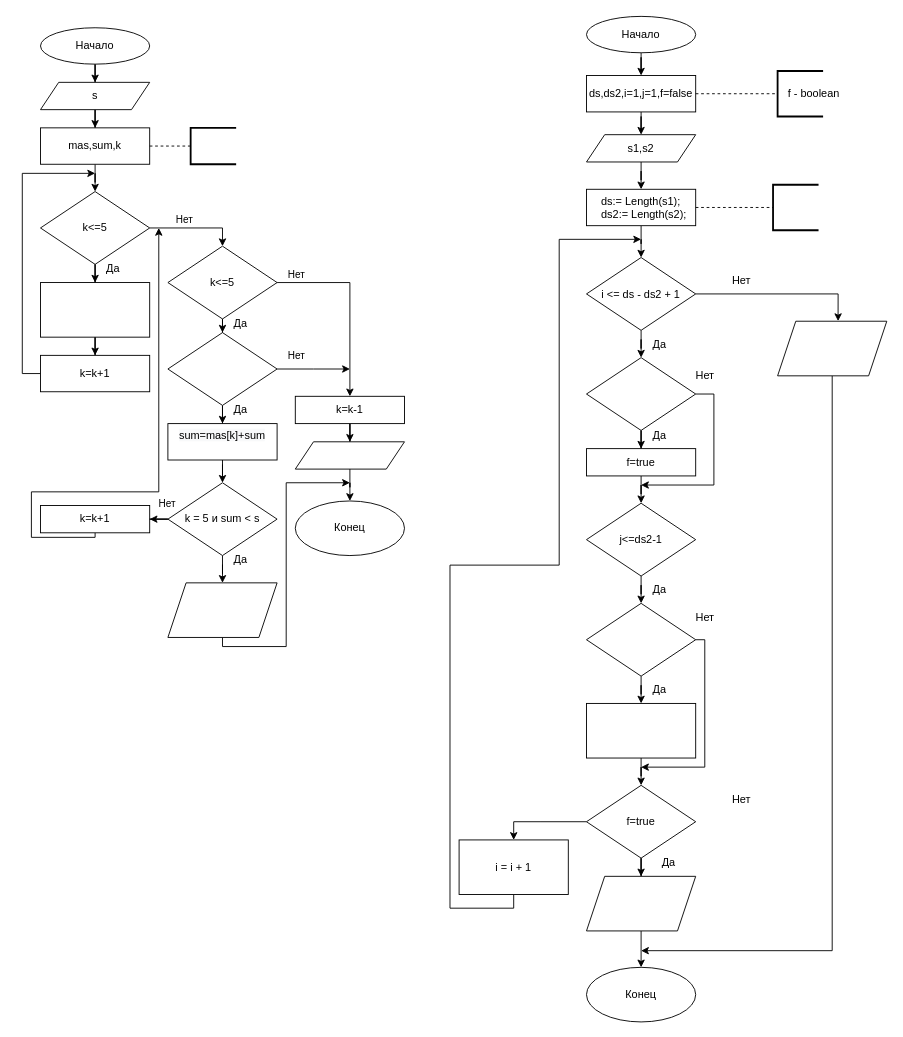
The diagram is 903 pixels wide and 1037 high, and some of its shapes have lost their labels. Here are the shapes that lost their labels. From the top down, the centre of each, then its label:
point (213, 145): mas - массив
point (795, 207): length - длинна строки
point (95, 309): mas[k] - случайные числа от 1 до 10
point (222, 368): sun<s
point (832, 348): Вывод "не является"
point (641, 393): s1[i]=s2[1]
point (349, 455): Вывод k
point (222, 609): Вывод "Суммы нет"
point (641, 639): s1[i + j] не = s2[j + 1]
point (641, 730): i= i + j f= false;
point (641, 903): Вывод "Является"
